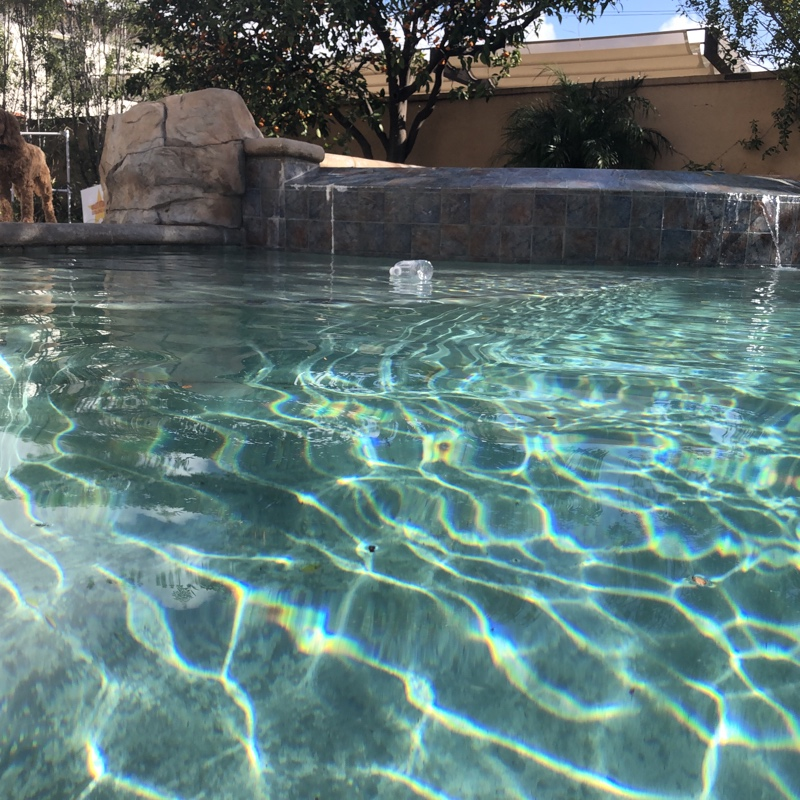Plastic Bottle: (386, 254, 432, 280)
